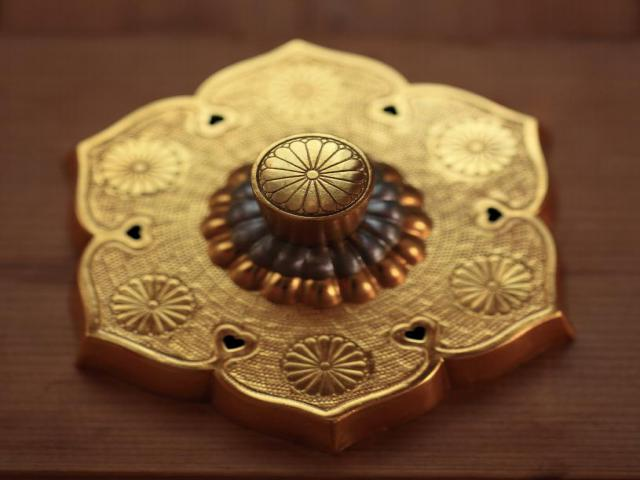Door-handle: (62, 33, 602, 458)
